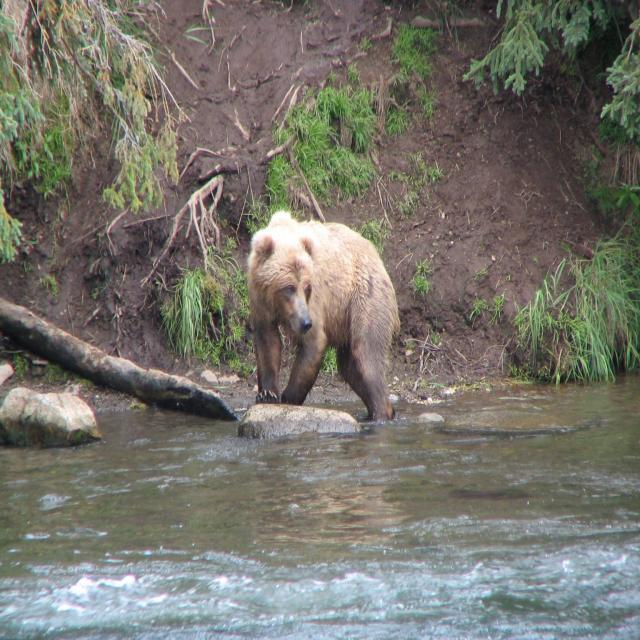bear face: (249, 211, 402, 422)
